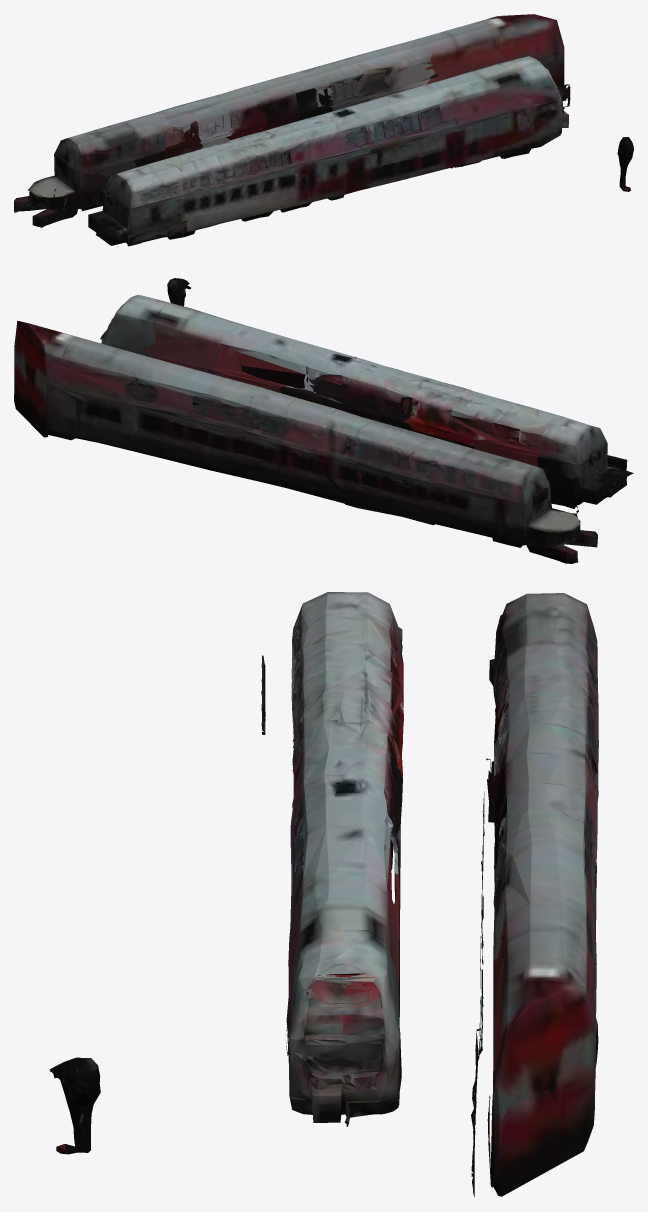
Rendered from transport-02.glb.
3 views of the same model, one above another, from view 1: azimuth 30°, elevation 25°; view 2: azimuth 150°, elevation 25°; view 3: azimuth 270°, elevation 25° (orthographic). The views are drawn at different scales.
Visible parts, largest first — view 1: tmpqretdeb7.obj; view 2: tmpqretdeb7.obj; view 3: tmpqretdeb7.obj.
Part boxes in pixels (bbox=[...]): tmpqretdeb7.obj: bbox=[14, 14, 633, 246]; tmpqretdeb7.obj: bbox=[14, 278, 633, 563]; tmpqretdeb7.obj: bbox=[49, 592, 598, 1197].
Size of the model in its own units: 1.85 by 0.2913 by 0.829.
1 material, 1 textured.
